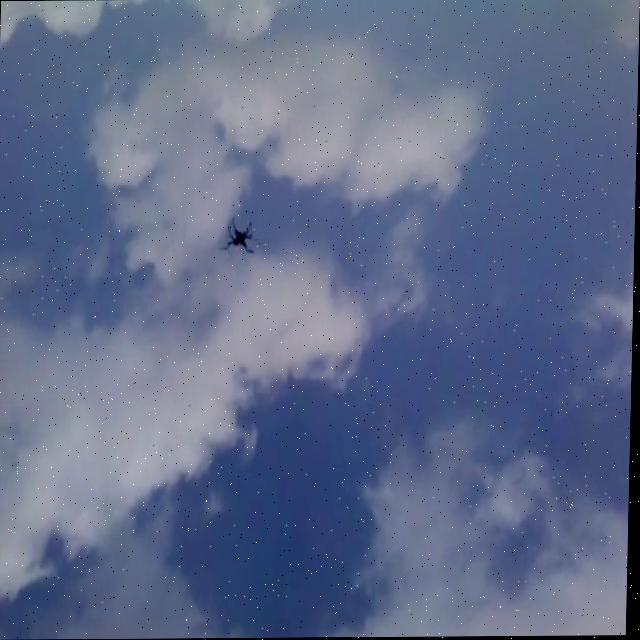drone: (217, 215, 260, 262)
